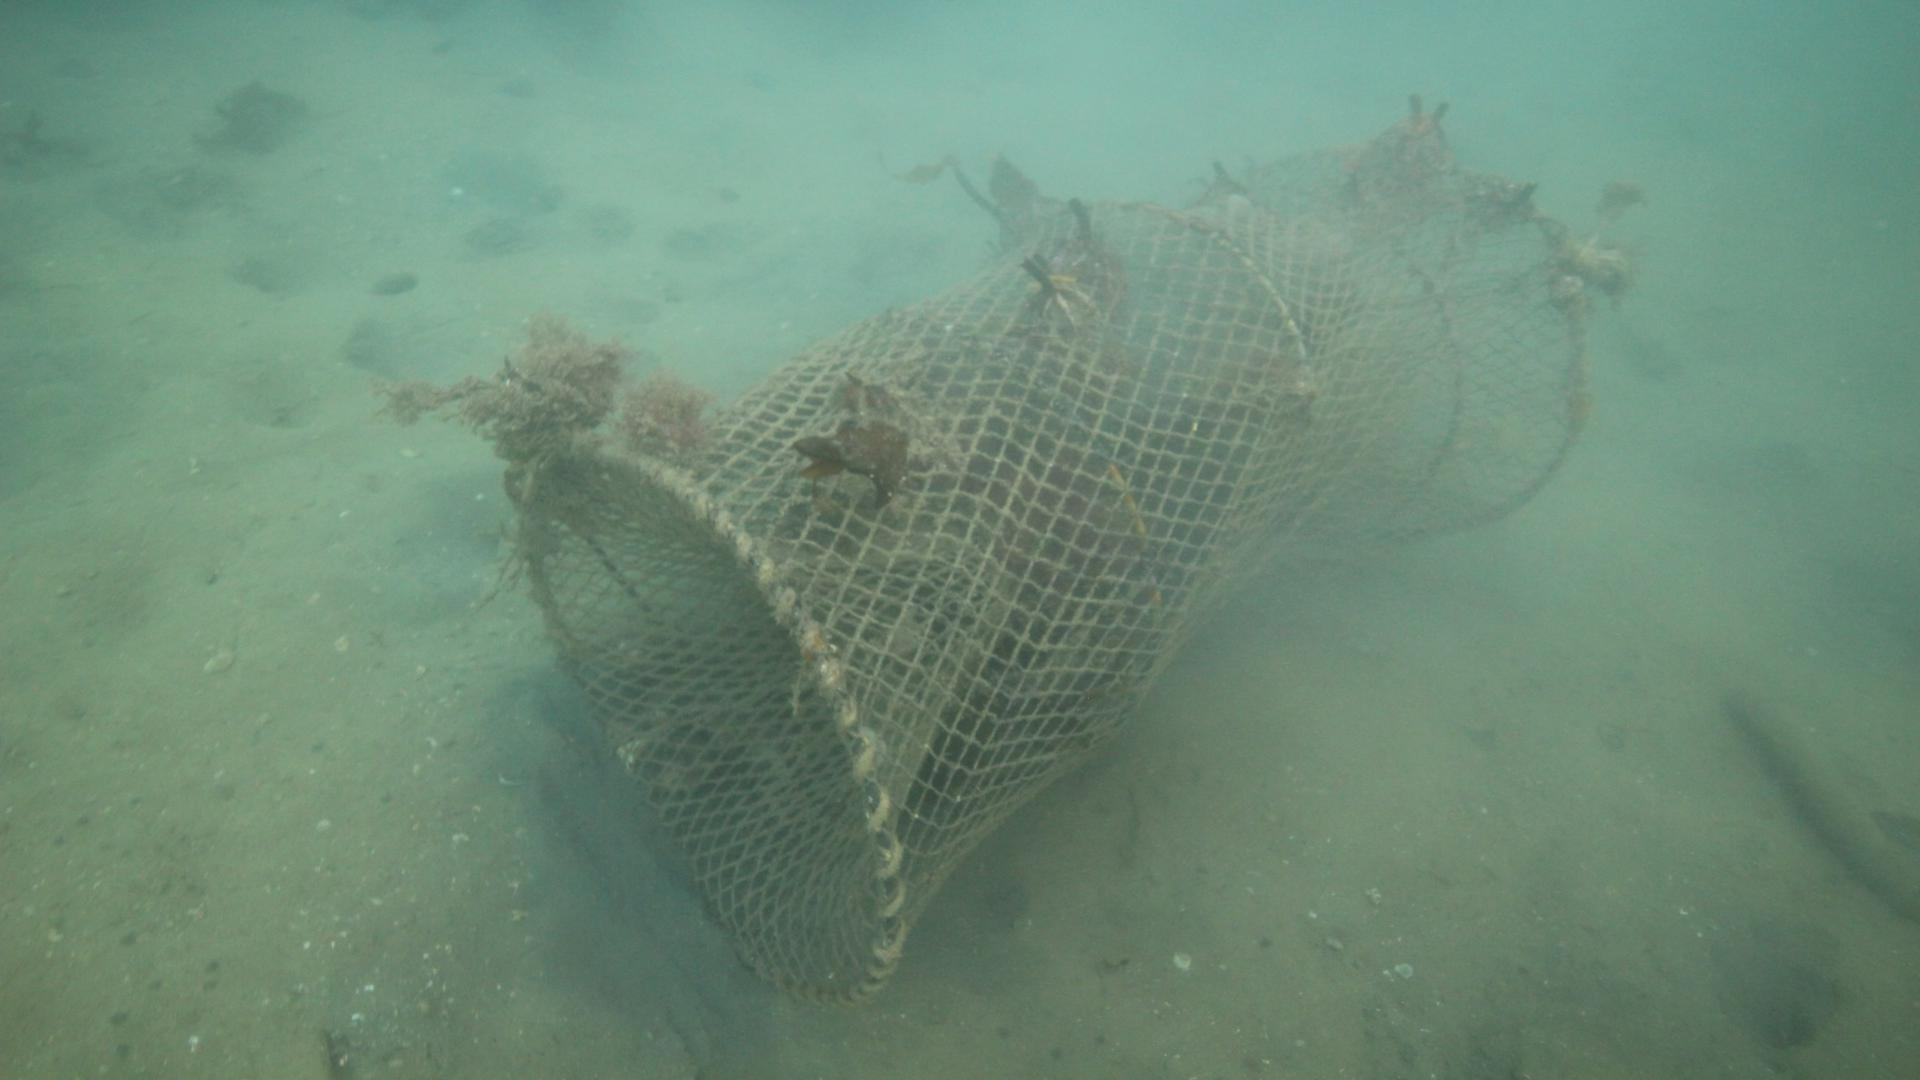spring fish trap: (516, 145, 1589, 1018)
